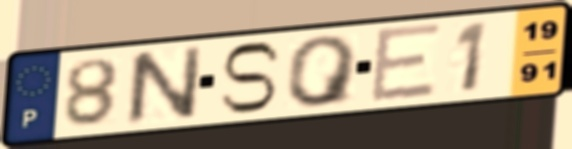1: (448, 18, 491, 96)
8: (59, 56, 124, 129)
E: (368, 21, 445, 107)
N: (124, 43, 206, 129)
Q: (285, 32, 362, 110)
S: (215, 40, 285, 116)
